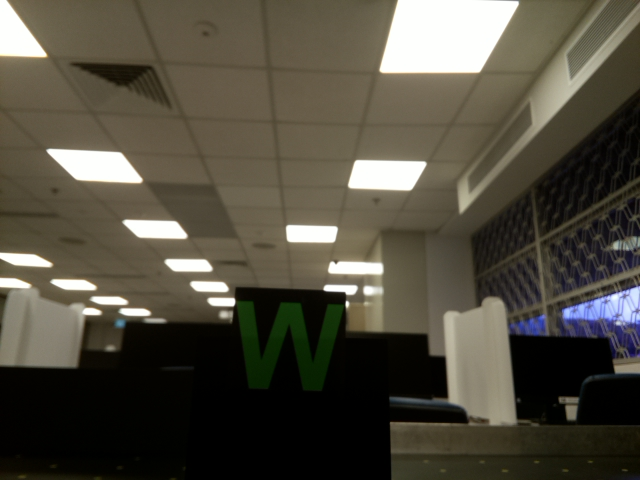w: (236, 294, 346, 402)
